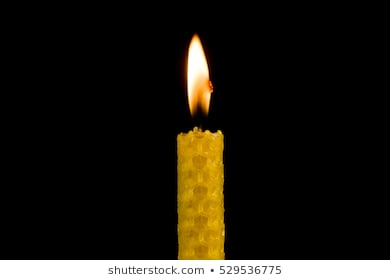Fire: (183, 31, 216, 118)
